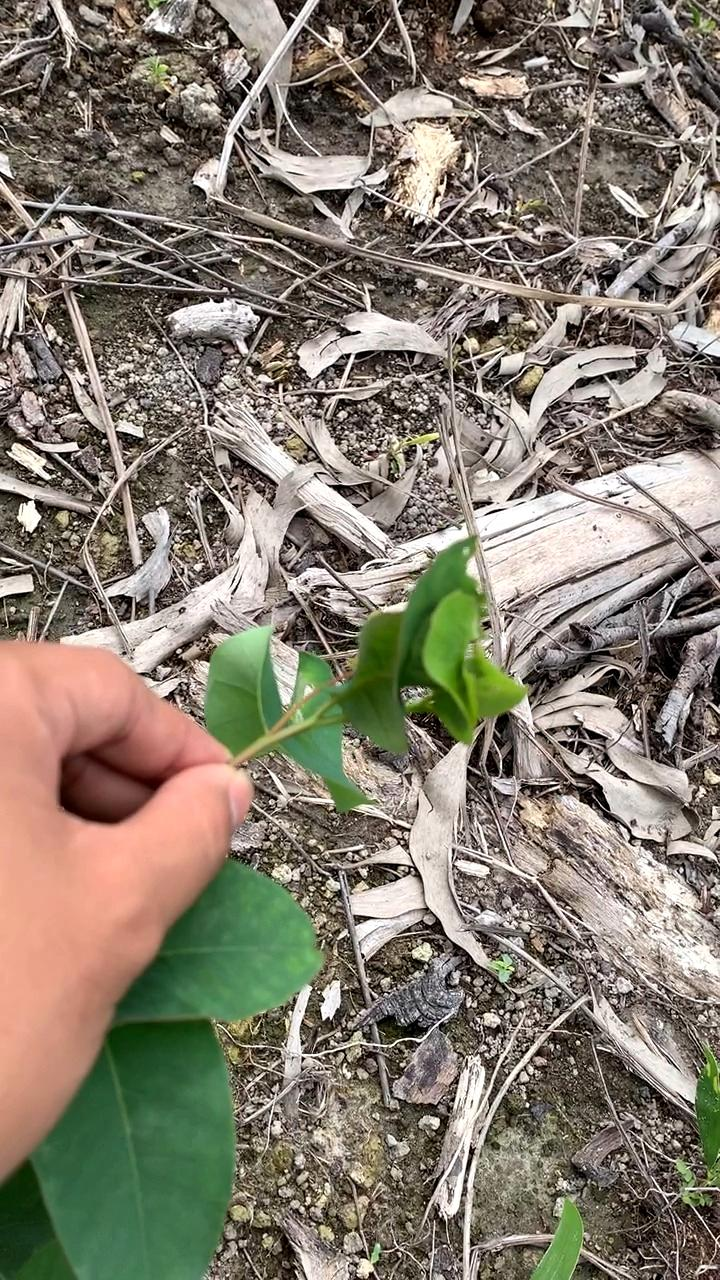Leaf Roller - Leaf: (320, 538, 537, 755)
